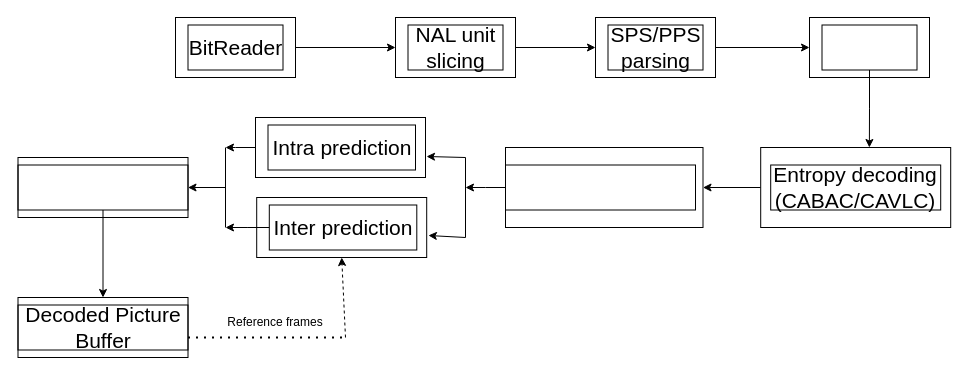
Image size: 968x375. Some labels were removed from this diagram. The centre of each missing label's shape, as x and y in pixels:
"Deblocking filter" goes at [102,187].
"Inverse transforms (4x4, 8x8, DC/AC)" goes at [600,187].
"Slice parsing" goes at [869,47].
